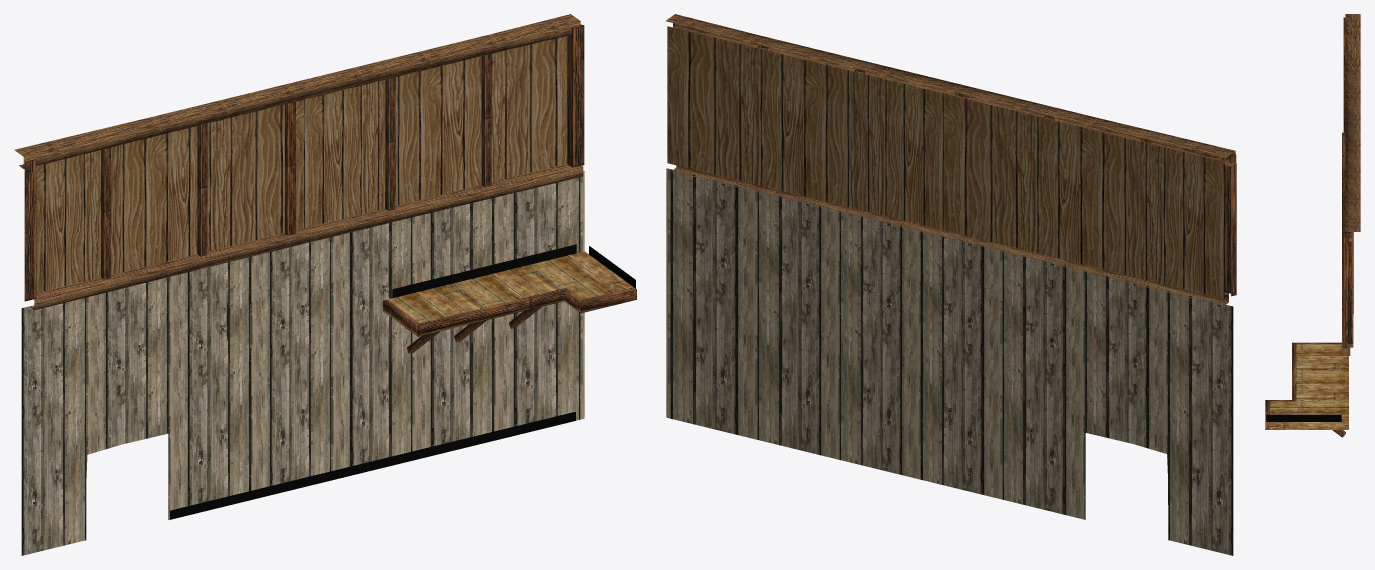
File: LAKETOWN_WAREHOUSE1_PS_WH1_SIDEWALL6621__GX.fbx
3 renders of one model, left to right at view 1: azimuth 30°, elevation 25°; view 2: azimuth 150°, elevation 25°; view 3: azimuth 270°, elevation 25°, orthographic. The views are drawn at different scales.
Parts seen in each view (by area): view 1: LAKETOWN_WAREHOUSE1_PS_WH1_SIDEWALL6621__GX; view 2: LAKETOWN_WAREHOUSE1_PS_WH1_SIDEWALL6621__GX; view 3: LAKETOWN_WAREHOUSE1_PS_WH1_SIDEWALL6621__GX.
Boxes of the visible parts, x1,y1,x2,y2 form: LAKETOWN_WAREHOUSE1_PS_WH1_SIDEWALL6621__GX: (14,14,636,555); LAKETOWN_WAREHOUSE1_PS_WH1_SIDEWALL6621__GX: (665,14,1236,555); LAKETOWN_WAREHOUSE1_PS_WH1_SIDEWALL6621__GX: (1265,14,1360,437).
Size of the model in its own units: 195235 by 132735 by 35778.
6 materials, 6 textured.
